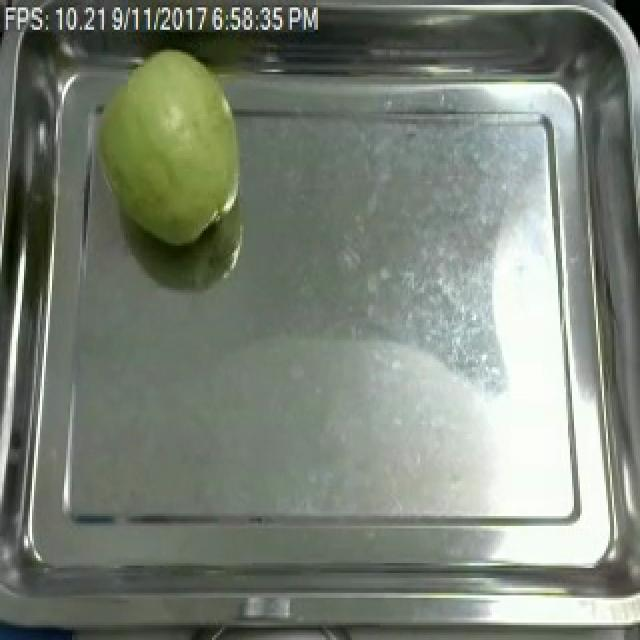Fruit: (86, 37, 252, 256)
